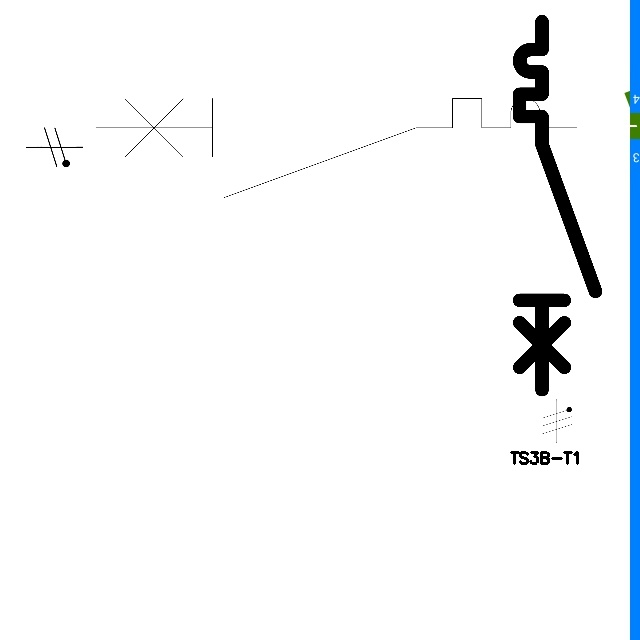interruptor_termomagnetico: (83, 86, 589, 210), (510, 12, 604, 399)
